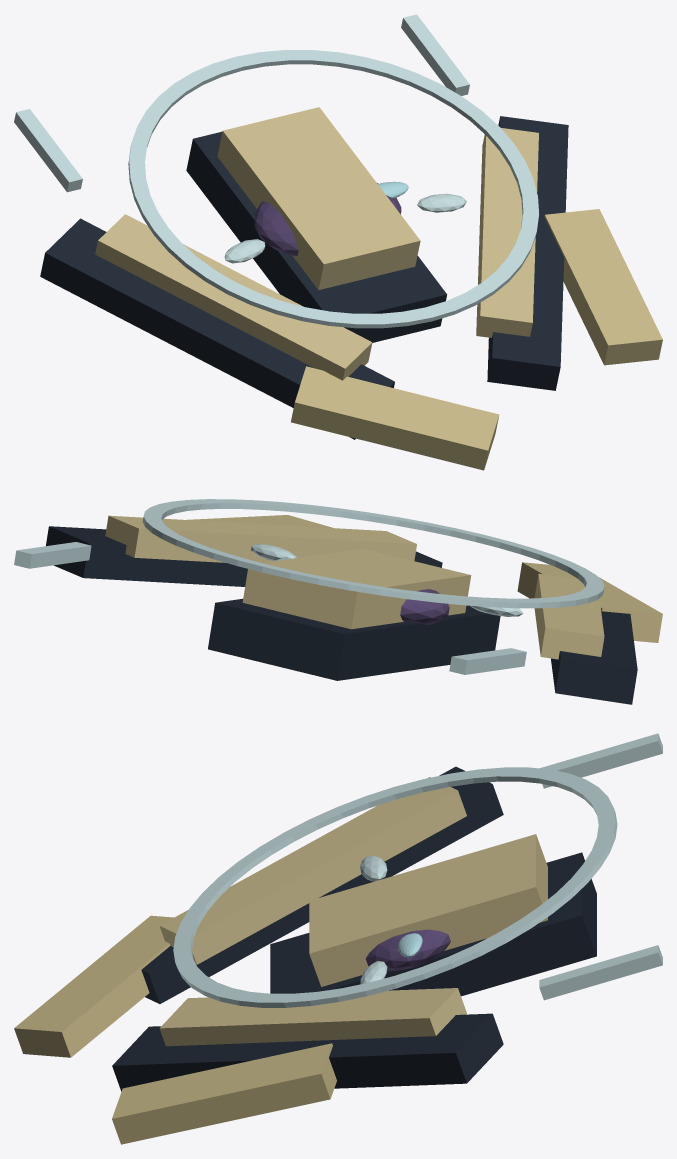
The model's file is helias_aurora_wing.glb.
3 views of the same model, one above another, from view 1: azimuth 30°, elevation 25°; view 2: azimuth 150°, elevation 25°; view 3: azimuth 270°, elevation 25° (orthographic). The views are drawn at different scales.
Parts seen in each view (by area): view 1: fuselage, glide_arc, wing_shadow_-1, wing_rear_-1, wing_gold_-1, undershell, wing_shadow_1, wing_rear_1, wing_gold_1, cannon_-1, cannon_1, hollow_core (+2 smaller); view 2: undershell, fuselage, glide_arc, wing_gold_1, wing_shadow_1, wing_shadow_-1, wing_gold_-1, wing_rear_-1, cannon_-1, cannon_1, hollow_core, wing_rear_1 (+2 smaller); view 3: fuselage, glide_arc, wing_gold_-1, wing_shadow_1, wing_rear_1, wing_gold_1, undershell, wing_rear_-1, wing_shadow_-1, cannon_1, cannon_-1, hollow_core.
Boxes of the visible parts, left/top/right/bottom form: fuselage: left=217, top=107, right=420, bottom=290; glide_arc: left=128, top=50, right=539, bottom=328; wing_shadow_-1: left=40, top=218, right=394, bottom=439; wing_rear_-1: left=291, top=366, right=499, bottom=470; wing_gold_-1: left=95, top=214, right=372, bottom=380; undershell: left=186, top=131, right=447, bottom=342; wing_shadow_1: left=487, top=116, right=568, bottom=390; wing_rear_1: left=544, top=209, right=662, bottom=365; wing_gold_1: left=476, top=128, right=538, bottom=337; cannon_-1: left=14, top=109, right=82, bottom=192; cannon_1: left=401, top=14, right=469, bottom=95; hollow_core: left=254, top=183, right=401, bottom=256; undershell: left=208, top=598, right=500, bottom=680; fuselage: left=242, top=548, right=471, bottom=629; glide_arc: left=142, top=499, right=604, bottom=608; wing_gold_1: left=105, top=515, right=416, bottom=562; wing_shadow_1: left=46, top=526, right=442, bottom=586; wing_shadow_-1: left=551, top=611, right=637, bottom=704; wing_gold_-1: left=534, top=573, right=604, bottom=659; wing_rear_-1: left=517, top=562, right=662, bottom=642; cannon_-1: left=449, top=648, right=526, bottom=674; cannon_1: left=14, top=542, right=91, bottom=568; hollow_core: left=400, top=589, right=449, bottom=624; wing_rear_1: left=187, top=515, right=332, bottom=527; fuselage: left=309, top=834, right=547, bottom=986; glide_arc: left=173, top=767, right=617, bottom=1007; wing_gold_-1: left=159, top=777, right=466, bottom=964; wing_shadow_1: left=112, top=1013, right=503, bottom=1091; wing_rear_1: left=112, top=1043, right=336, bottom=1144; wing_gold_1: left=159, top=988, right=466, bottom=1046; undershell: left=270, top=852, right=596, bottom=996; wing_rear_-1: left=14, top=915, right=173, bottom=1057; wing_shadow_-1: left=141, top=766, right=503, bottom=1003; cannon_1: left=539, top=945, right=662, bottom=1000; cannon_-1: left=540, top=733, right=662, bottom=788; hollow_core: left=365, top=929, right=450, bottom=970.
Bounding box in the file's own units: 2.27 × 0.898 × 2.18.
